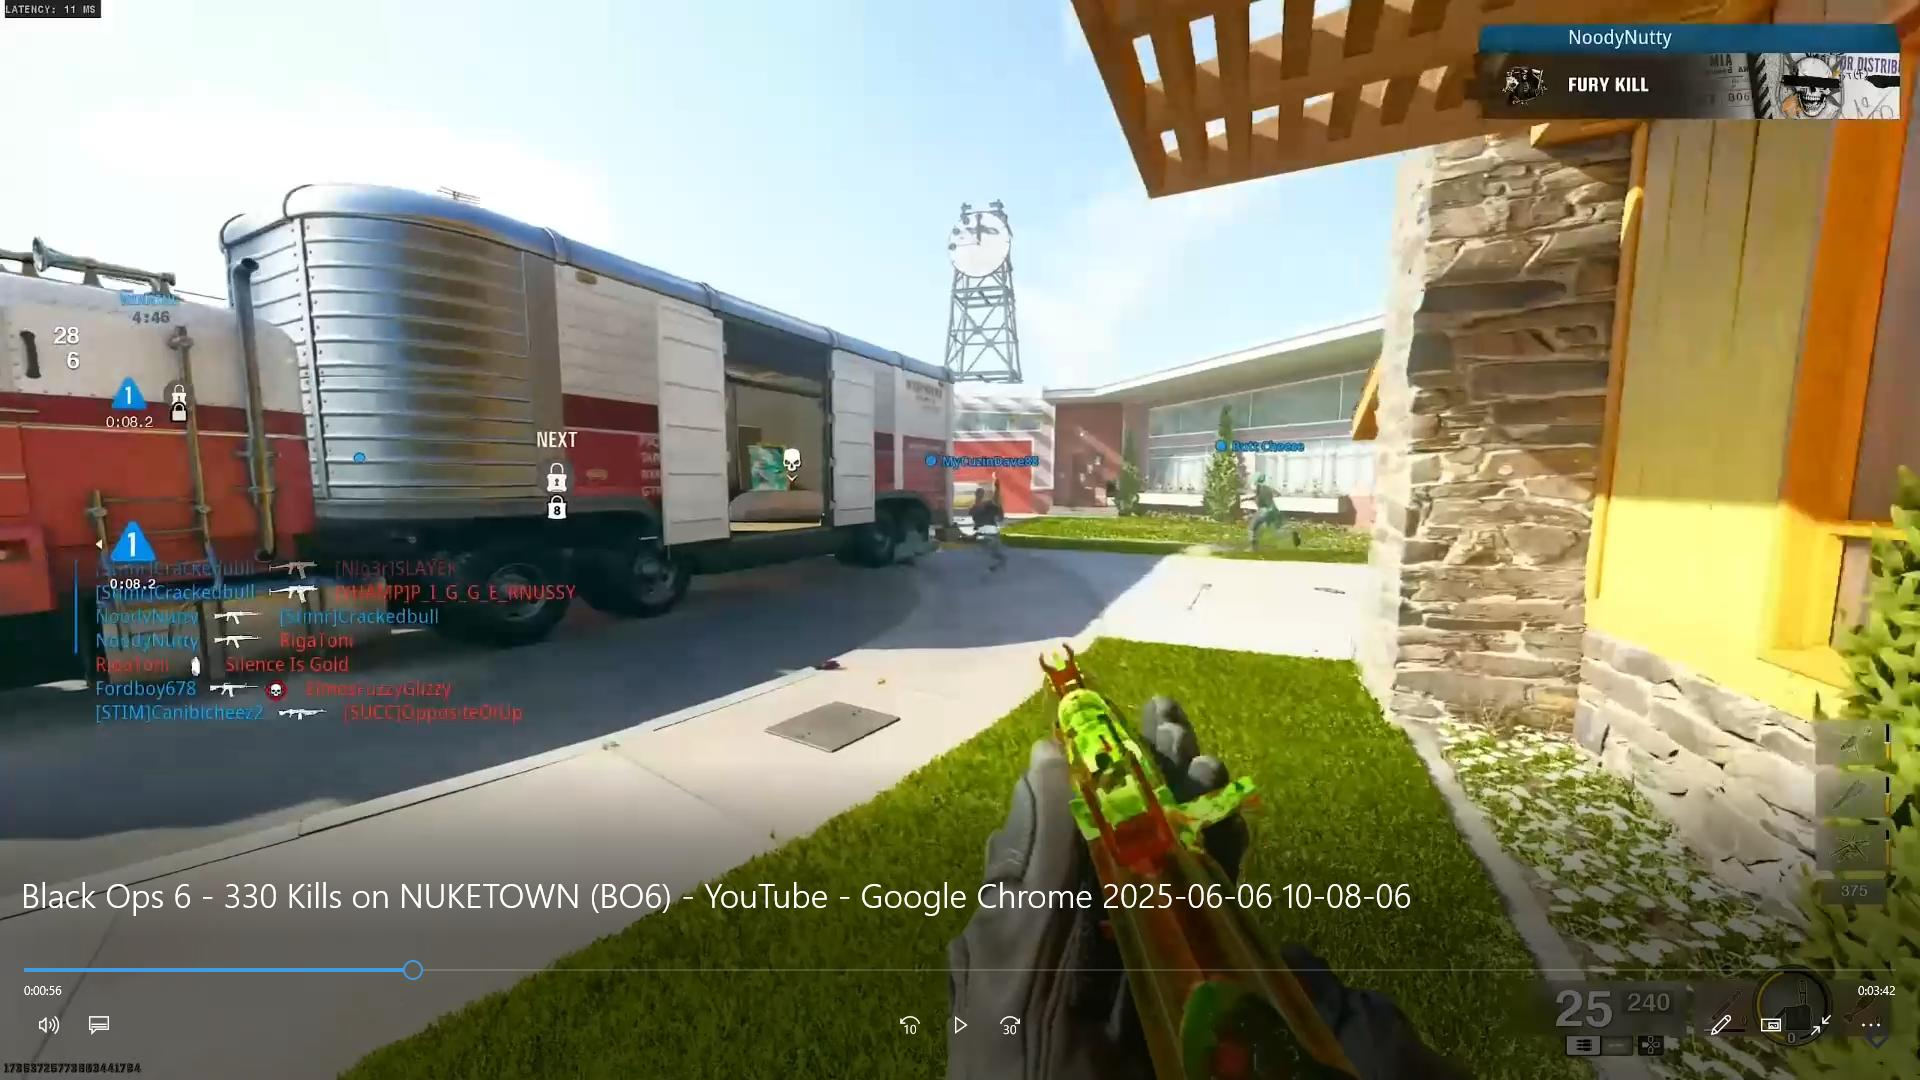Enemy: (1229, 469, 1307, 551), (961, 483, 1015, 580)
